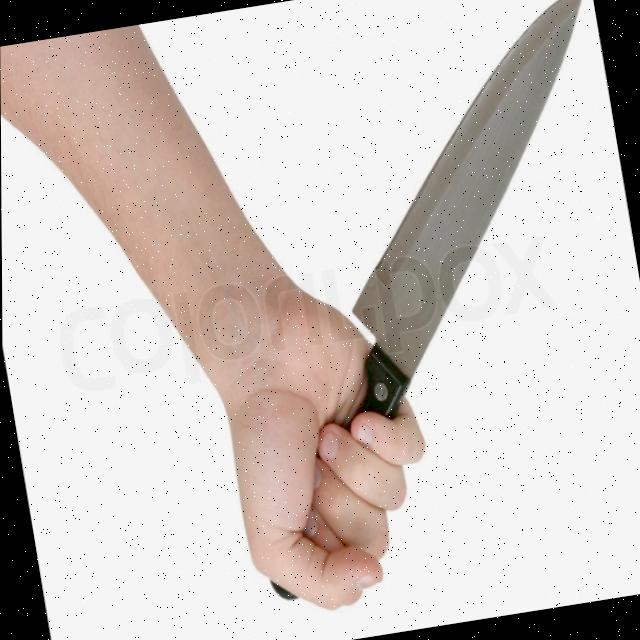knife: (304, 0, 640, 416)
